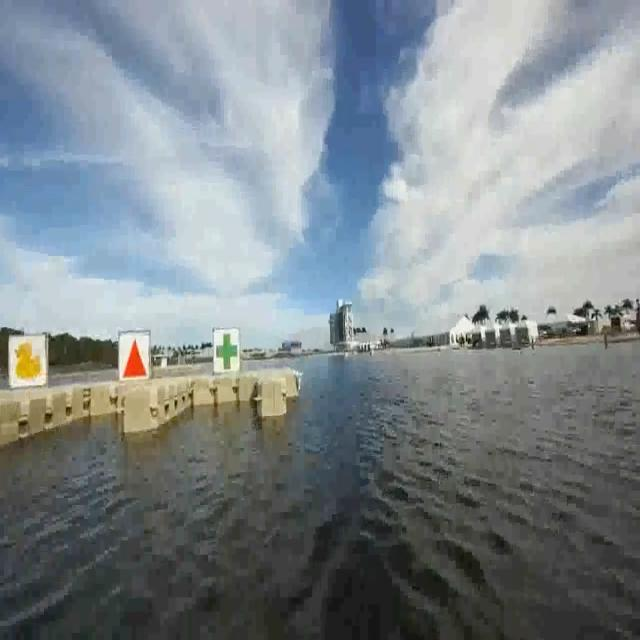blue-cross: (216, 329, 240, 373)
red-dot: (118, 332, 150, 382)
yellow-duck: (8, 340, 47, 389)
